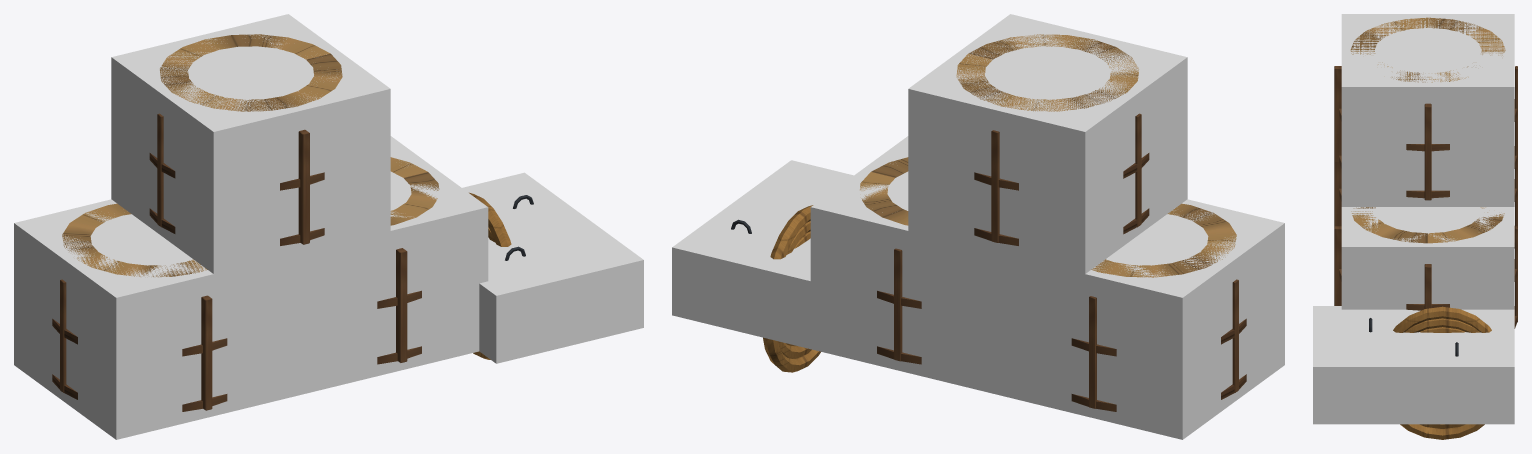
Rendered from settlement_inn_undercroft_crab_pots.gltf.
The picture shows the model from 3 angles, left to right: view 1: azimuth 30°, elevation 25°; view 2: azimuth 150°, elevation 25°; view 3: azimuth 270°, elevation 25°; orthographic projection. The views are drawn at different scales.
Parts seen in each view (by area): view 1: settlement_inn_undercroft_crab_pots_col, settlement_inn_undercroft_crab_pots_LOD0; view 2: settlement_inn_undercroft_crab_pots_col, settlement_inn_undercroft_crab_pots_LOD0; view 3: settlement_inn_undercroft_crab_pots_col, settlement_inn_undercroft_crab_pots_LOD0.
Part boxes in pixels (x1,y1,x2,y2): settlement_inn_undercroft_crab_pots_col: [14, 14, 643, 439]; settlement_inn_undercroft_crab_pots_LOD0: [52, 34, 533, 411]; settlement_inn_undercroft_crab_pots_col: [672, 14, 1284, 439]; settlement_inn_undercroft_crab_pots_LOD0: [731, 34, 1246, 411]; settlement_inn_undercroft_crab_pots_col: [1313, 14, 1514, 424]; settlement_inn_undercroft_crab_pots_LOD0: [1334, 17, 1517, 439].
Size of what is drawn, in the model's own units: 1.74 by 1.12 by 0.712.
4 materials, 4 textured.
